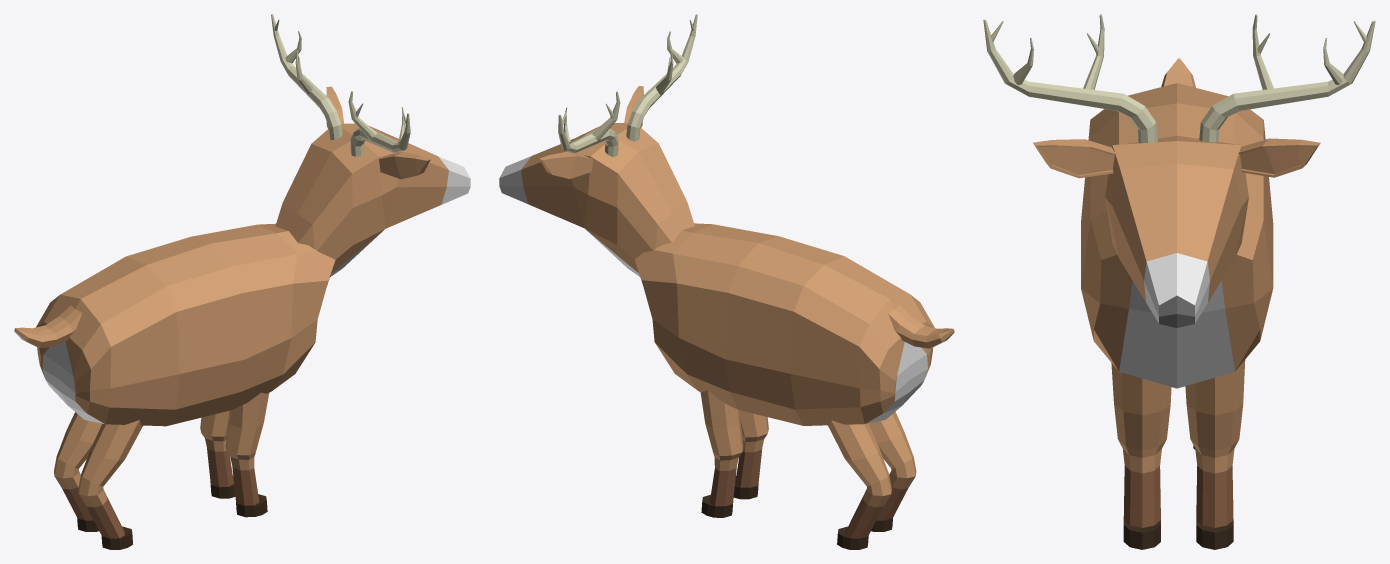
Rendered from Deer.fbx.
3 views of the same model, side by side, from view 1: azimuth 30°, elevation 25°; view 2: azimuth 150°, elevation 25°; view 3: azimuth 270°, elevation 25° (orthographic). The views are drawn at different scales.
Visible parts, largest first — view 1: Cube.013, Cube.012, Cube.015, Cube.017, Cube.016, Cube.018, Cube.014; view 2: Cube.013, Cube.012, Cube.016, Cube.018, Cube.015, Cube.017, Cube.014; view 3: Cube.012, Cube.013, Cube.018, Cube.017, Cube.014.
Part boxes in pixels (x1,y1,x2,y2): Cube.013: [36, 223, 335, 426]; Cube.012: [271, 14, 470, 277]; Cube.015: [78, 420, 142, 549]; Cube.017: [225, 392, 269, 517]; Cube.016: [54, 412, 101, 531]; Cube.018: [200, 411, 235, 498]; Cube.014: [14, 305, 82, 347]; Cube.013: [634, 223, 934, 425]; Cube.012: [499, 14, 697, 276]; Cube.016: [828, 420, 891, 549]; Cube.018: [700, 390, 743, 517]; Cube.015: [868, 411, 916, 531]; Cube.017: [733, 410, 768, 499]; Cube.014: [888, 304, 954, 348]; Cube.012: [983, 14, 1375, 327]; Cube.013: [1081, 83, 1273, 388]; Cube.018: [1185, 360, 1245, 549]; Cube.017: [1111, 363, 1171, 549]; Cube.014: [1161, 58, 1195, 87].
Bounding box in the file's own units: 459 × 401 × 242.
